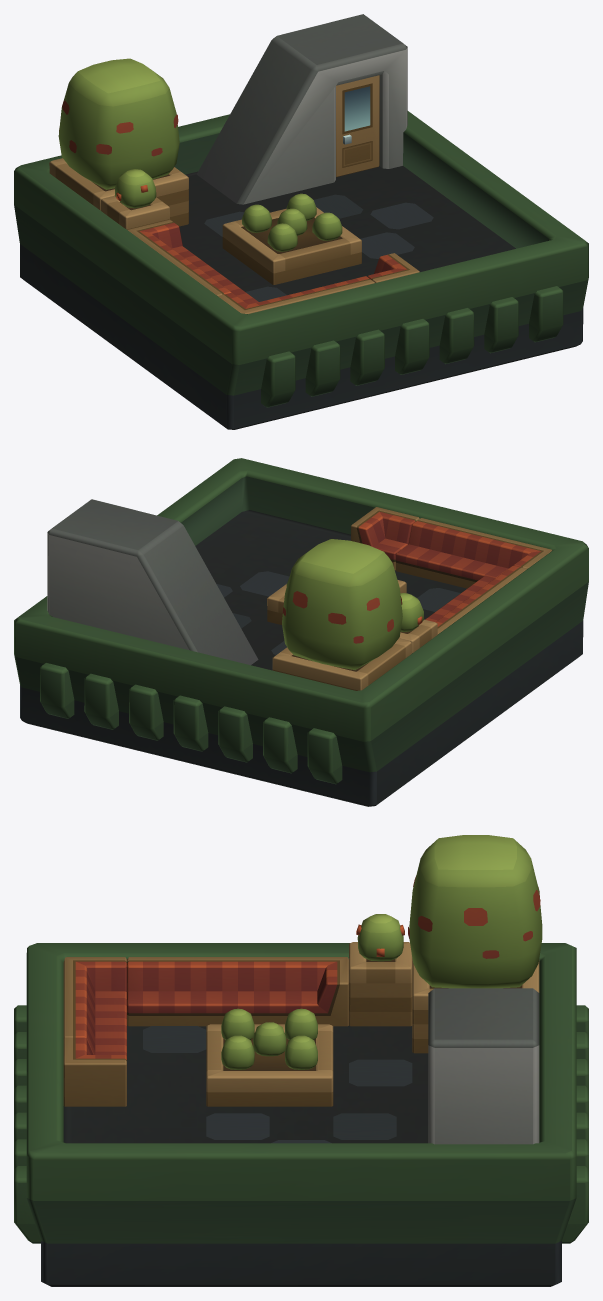
File: appartment_type1_roof_type2_x4_flat_brown_deco.fbx
3 views of the same model, one above another, from view 1: azimuth 30°, elevation 25°; view 2: azimuth 150°, elevation 25°; view 3: azimuth 270°, elevation 25° (orthographic). The views are drawn at different scales.
Parts seen in each view (by area): view 1: appartment_type1_roof_type2_x4_flat_brown_deco, door_wood_rooftop_doorway; view 2: appartment_type1_roof_type2_x4_flat_brown_deco; view 3: appartment_type1_roof_type2_x4_flat_brown_deco.
Part boxes in pixels (left/top/right/bottom): appartment_type1_roof_type2_x4_flat_brown_deco: left=14, top=14, right=588, bottom=429; door_wood_rooftop_doorway: left=336, top=75, right=379, bottom=177; appartment_type1_roof_type2_x4_flat_brown_deco: left=14, top=458, right=588, bottom=806; appartment_type1_roof_type2_x4_flat_brown_deco: left=14, top=835, right=588, bottom=1286.
Bounding box in the file's own units: 800 × 463 × 907.
